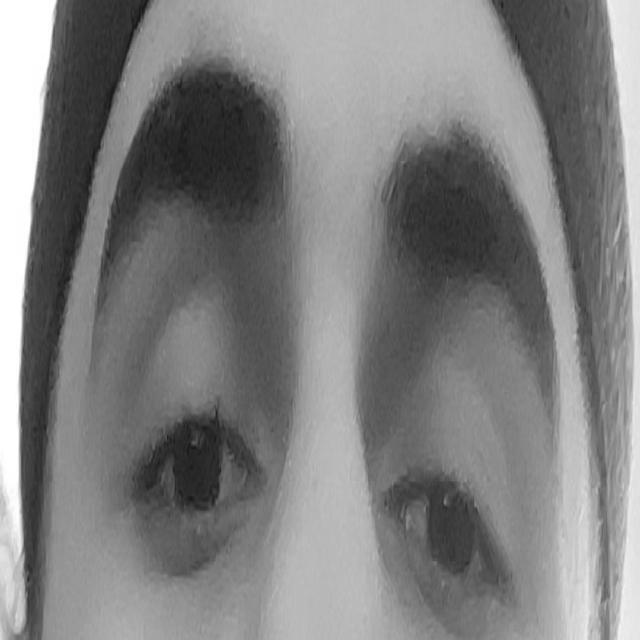real: (115, 207, 544, 640)
